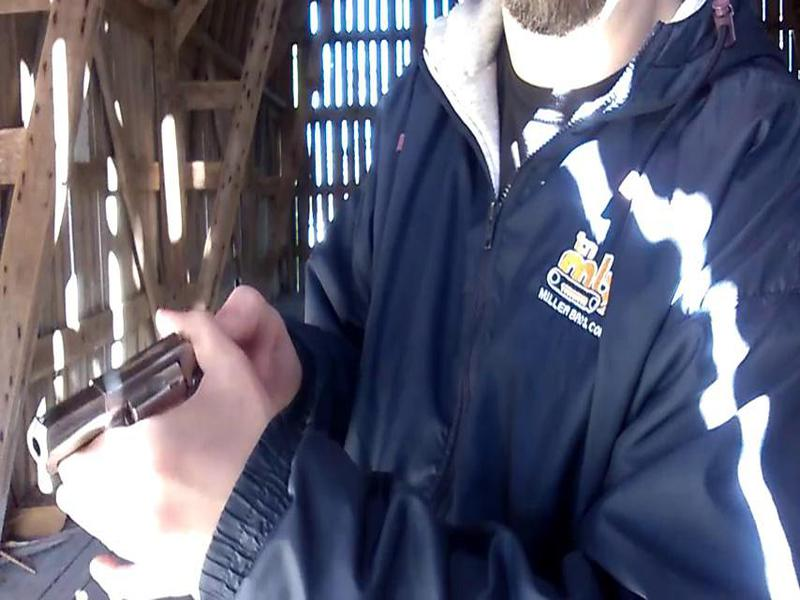Revolver: (22, 333, 211, 474)
